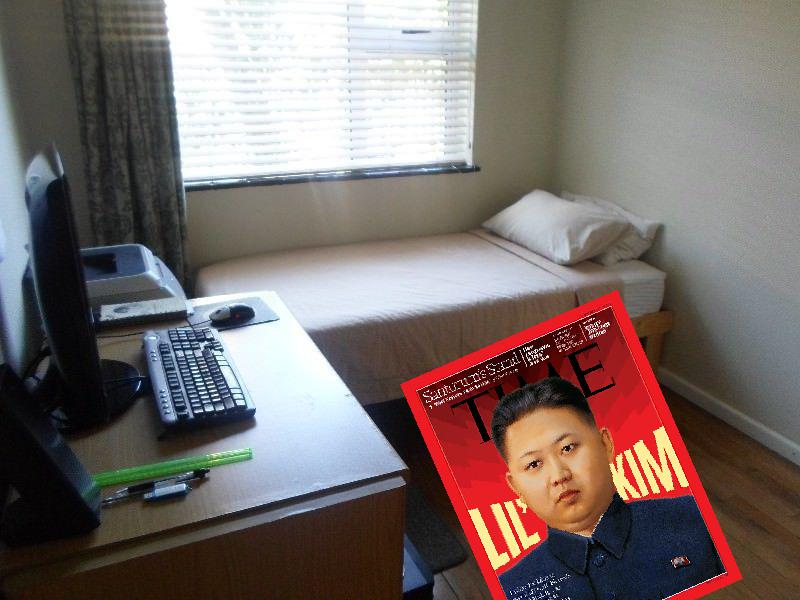times: (395, 282, 744, 600)
